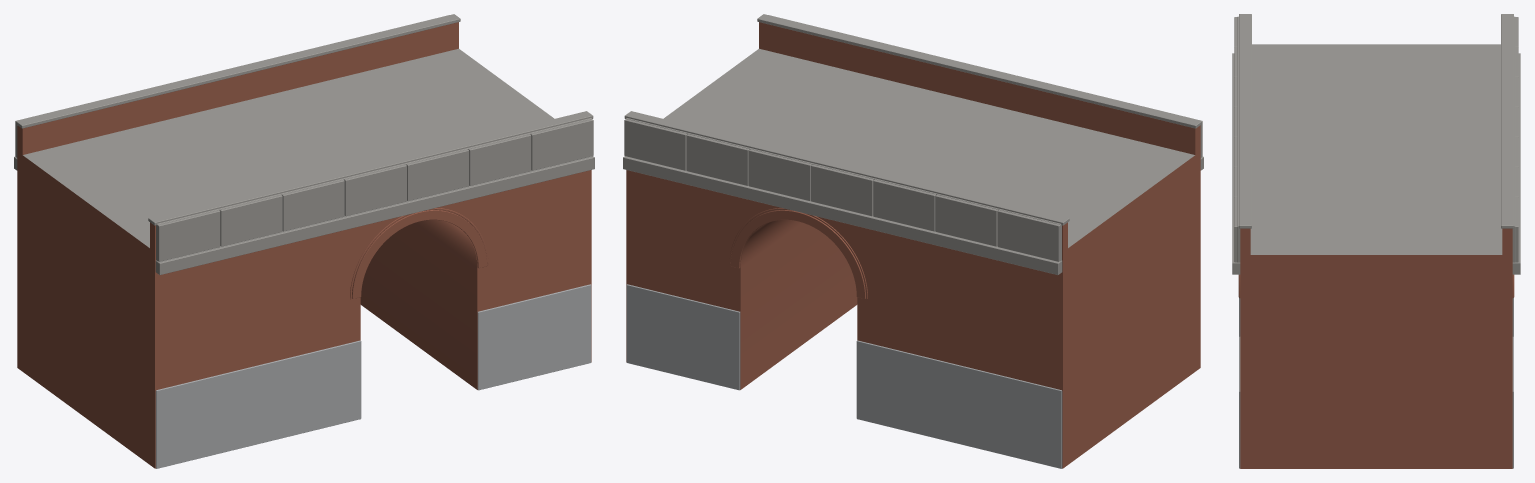
The model's file is bigarreaux.glb.
3 renders of one model, left to right at view 1: azimuth 30°, elevation 25°; view 2: azimuth 150°, elevation 25°; view 3: azimuth 270°, elevation 25°, orthographic.
Parts seen in each view (by area): view 1: bigarreaux; view 2: bigarreaux; view 3: bigarreaux.
Boxes of the visible parts, x1=… form: bigarreaux: x1=14, y1=14, x2=594, y2=468; bigarreaux: x1=623, y1=14, x2=1203, y2=468; bigarreaux: x1=1232, y1=14, x2=1520, y2=468.
Bounding box in the file's own units: 17.3 × 9.3 × 9.96.
